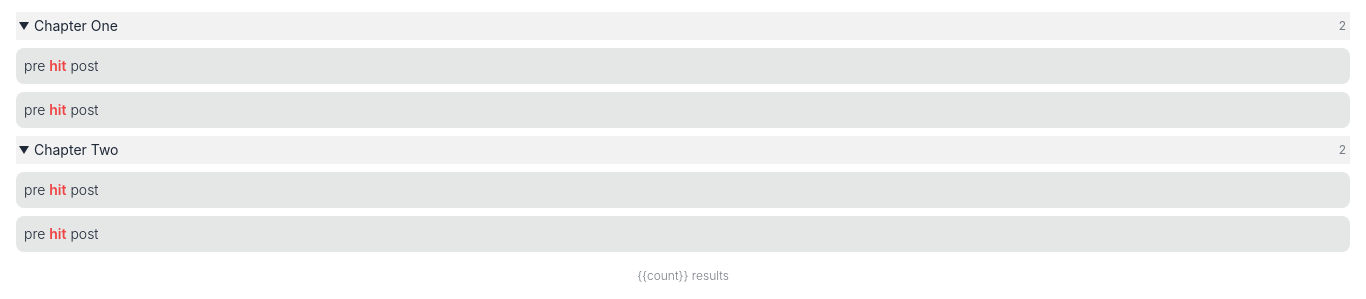
Test: SearchResults chapter sections › collapses and expands a chapter section when its header is toggled
Click the button "Chapter One 2": (76, 26) [16,12,1350,40]
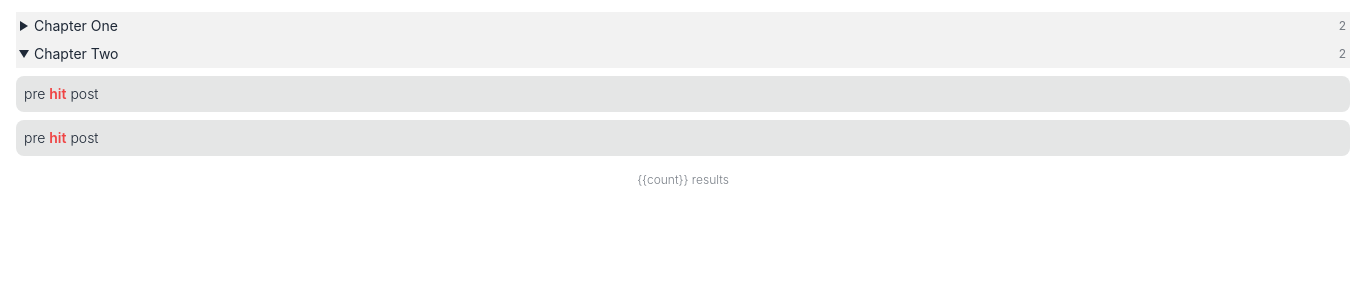
expect the button "Chapter One 2" is collapsed: met
Click the button "Chapter One 2": (76, 26) [16,12,1350,40]
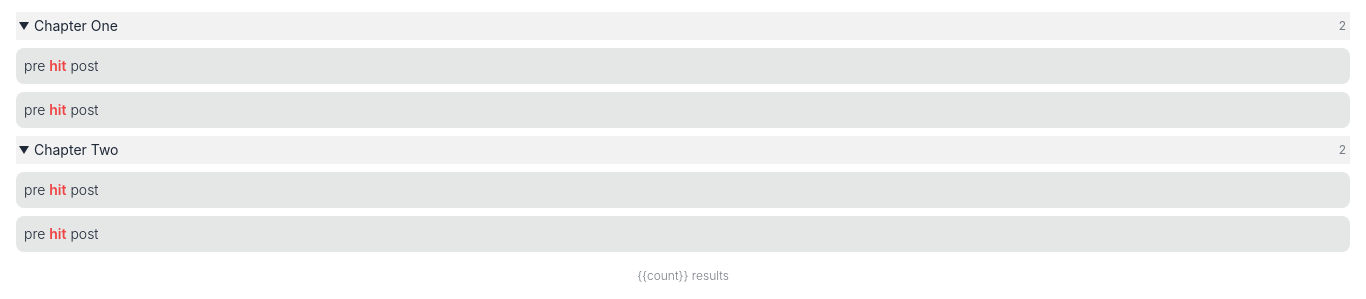
expect the button "Chapter One 2" is expanded: met, box [16,12,1350,40]
